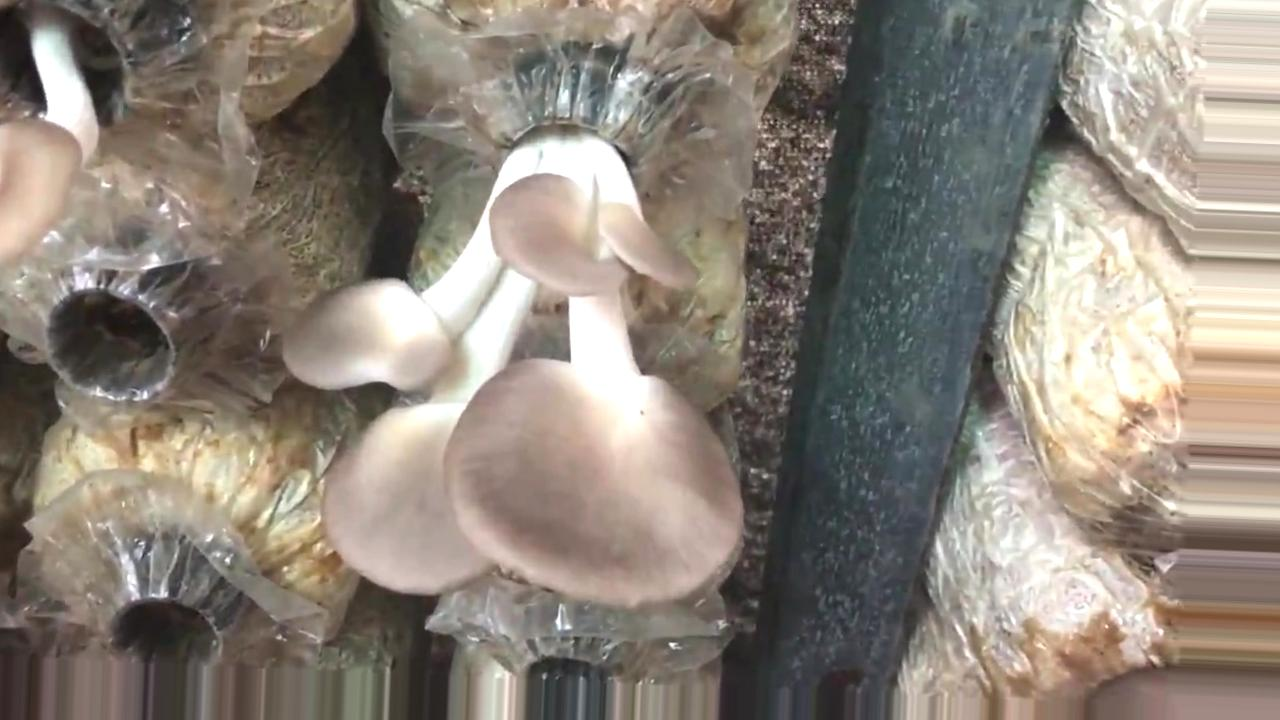nam: (295, 64, 736, 598), (3, 1, 130, 264)
